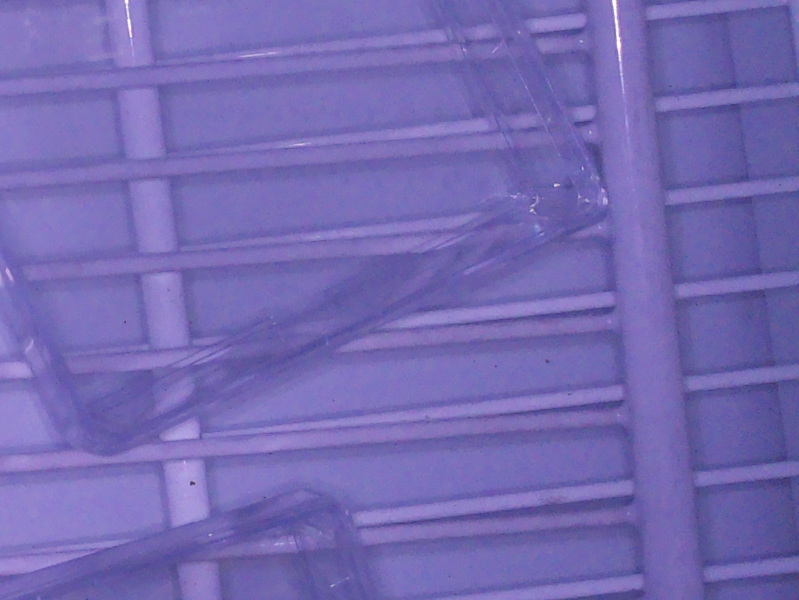plate: (1, 1, 611, 460), (1, 488, 370, 600)
